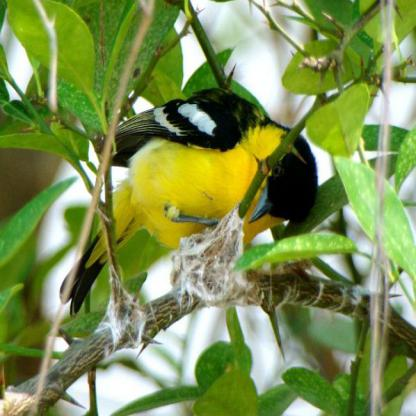Burung: (58, 87, 318, 316)
